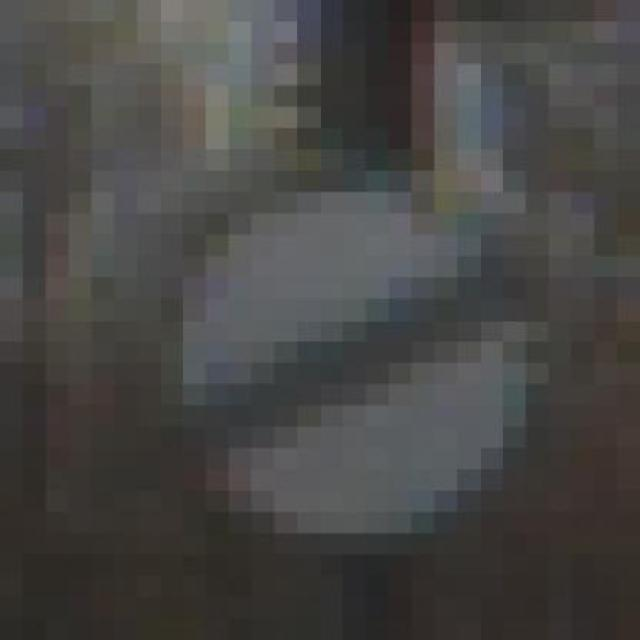End of all speed and passing limits: (137, 107, 594, 576)
